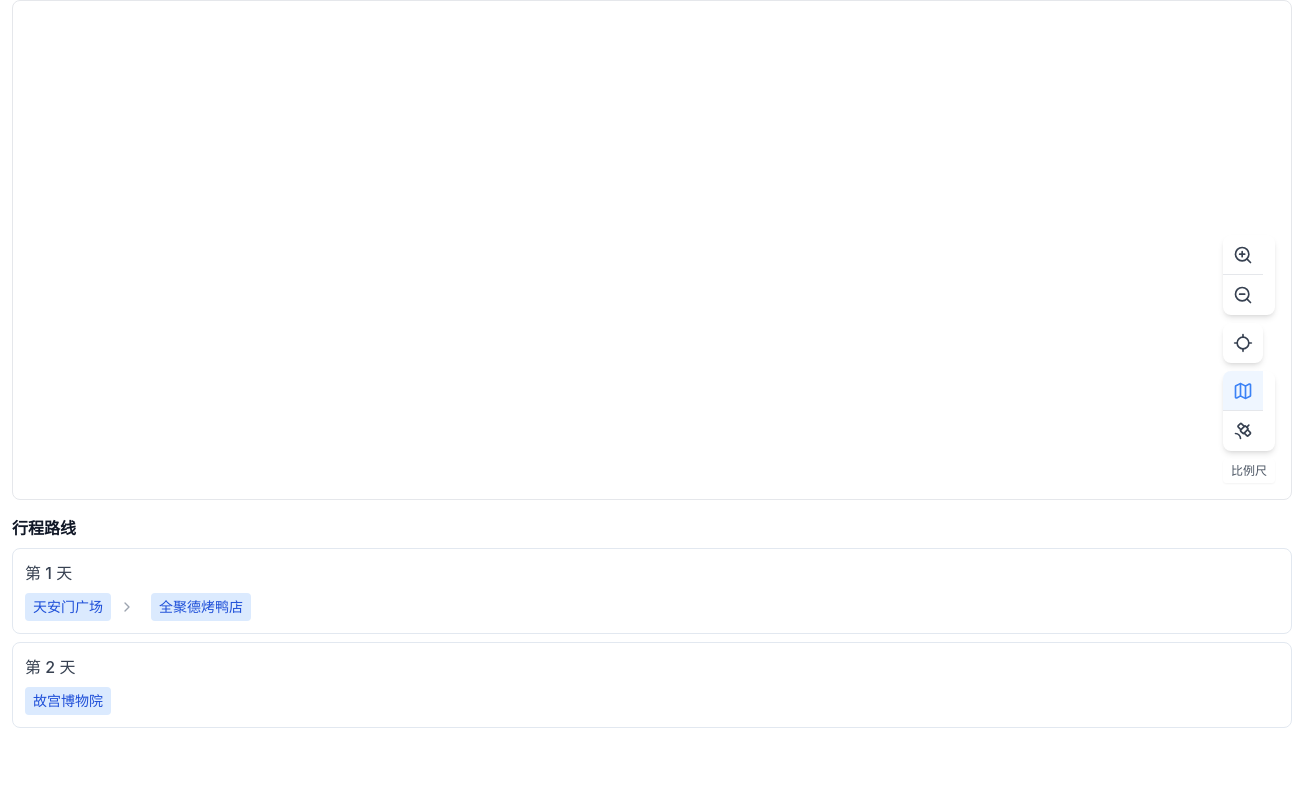
Test case: ItineraryMapView Integration Tests › route planning › should show loading state when planning route
Step 1. Click the button titled "查看路线" → [127, 607], box [115,595,139,619]
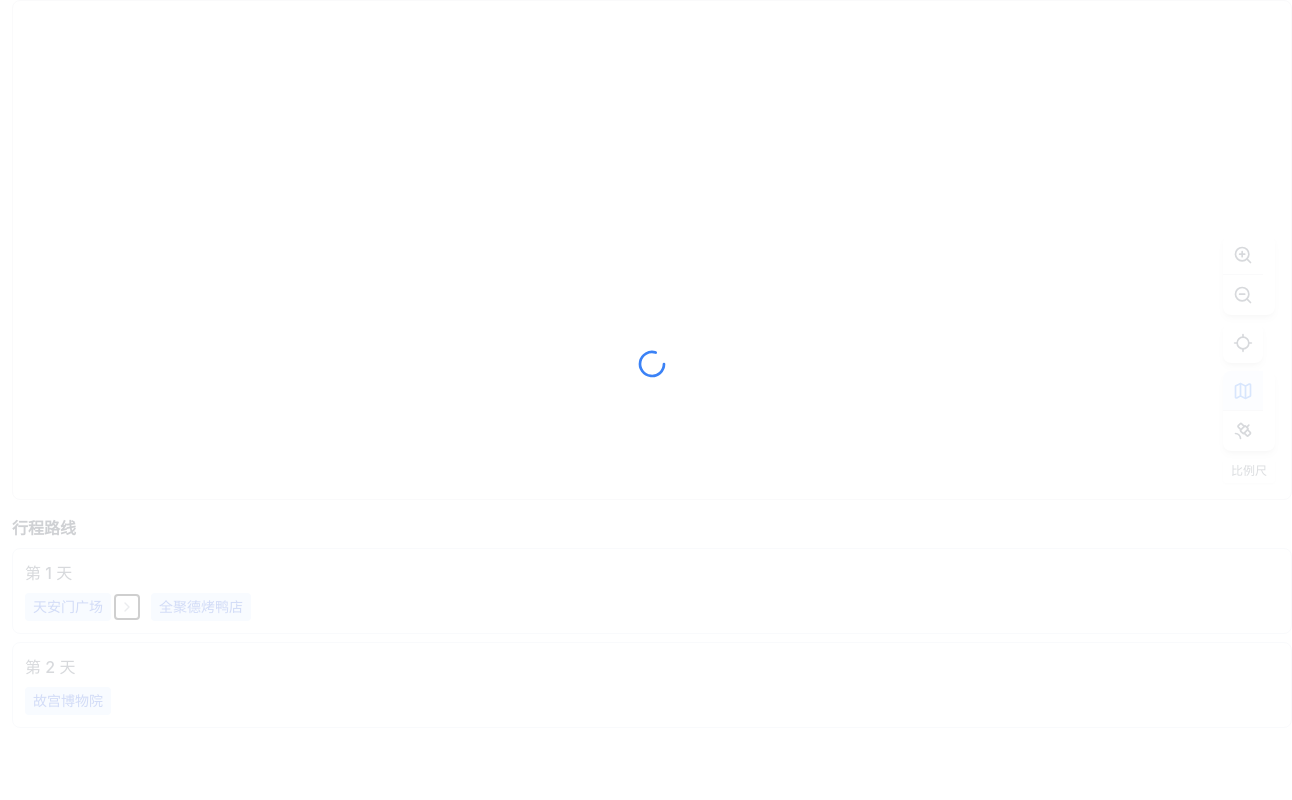
Expected: the icon with class "animate-spin" is shown, [636,348,668,380]
